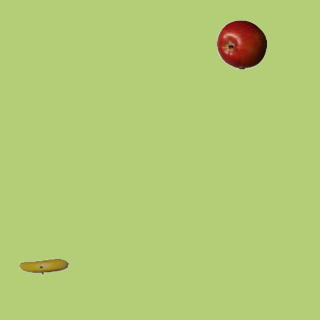Apple Braeburn: (216, 19, 266, 69)
Banana: (18, 241, 68, 291)
